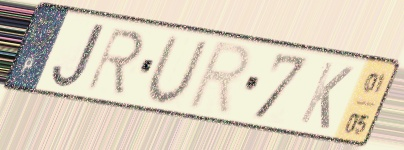7: (252, 49, 314, 123)
J: (48, 19, 110, 90)
K: (295, 58, 357, 133)
R: (182, 38, 256, 120), (83, 25, 148, 98)
U: (145, 34, 212, 107)
